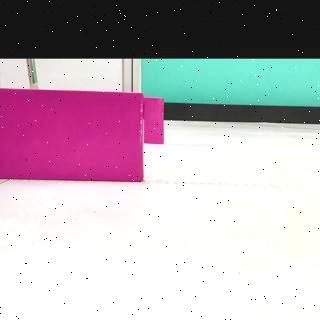xparking: (4, 94, 142, 180), (146, 99, 163, 143)
